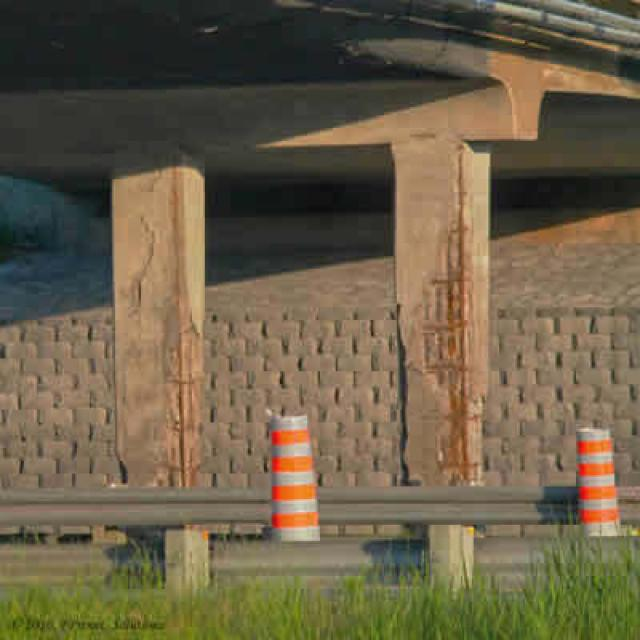Spalling: (403, 192, 493, 482), (150, 286, 203, 486)
